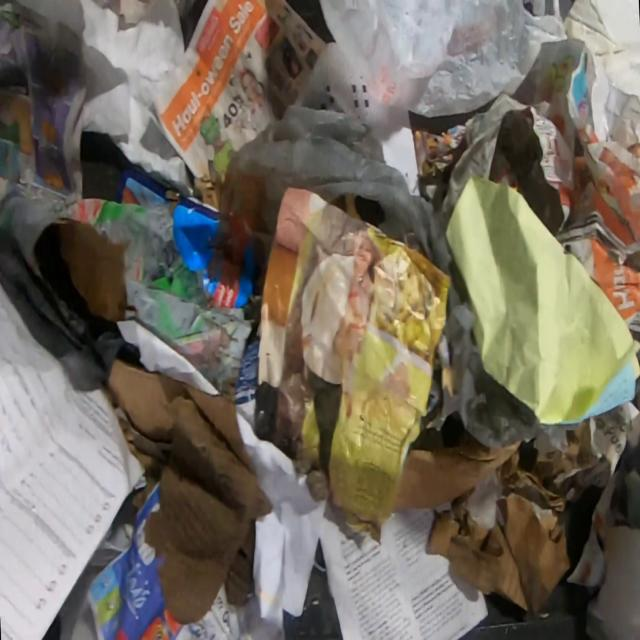cardboard: (99, 356, 274, 624), (390, 421, 600, 618), (56, 218, 130, 324)
soft_plastic: (219, 103, 580, 450), (318, 0, 568, 119)
